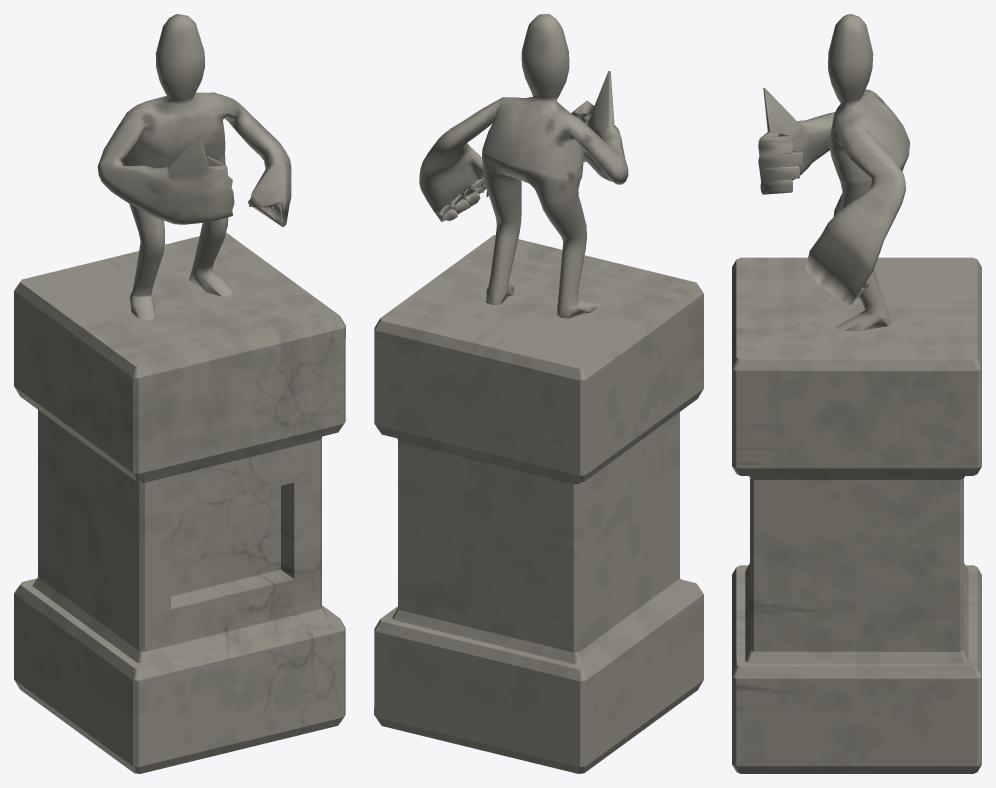
File: hunnit statue.fbx
3 renders of one model, left to right at view 1: azimuth 30°, elevation 25°; view 2: azimuth 150°, elevation 25°; view 3: azimuth 270°, elevation 25°, orthographic. The views are drawn at different scales.
Parts seen in each view (by area): view 1: polySurface554; view 2: polySurface554; view 3: polySurface554.
Boxes of the visible parts, x1,y1,x2,y2 form: polySurface554: (14, 14, 345, 773); polySurface554: (374, 14, 703, 773); polySurface554: (732, 14, 981, 773).
Size of the model in its own units: 0.454 by 1.37 by 0.4385.
Materials: 1 (1 with a texture image).
